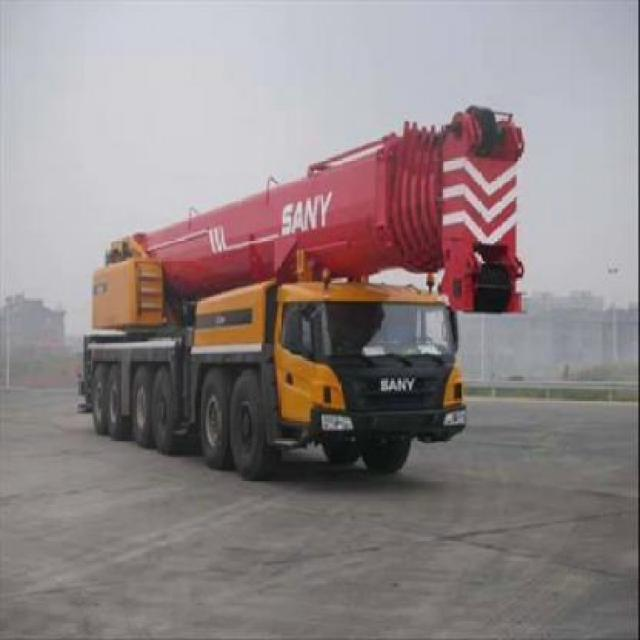Mobile Crane: (76, 109, 522, 478)
